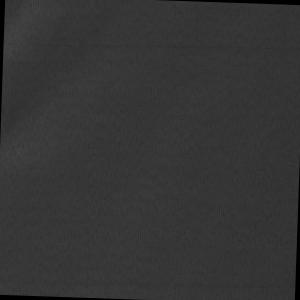Wrinkle: (1, 1, 125, 158)
